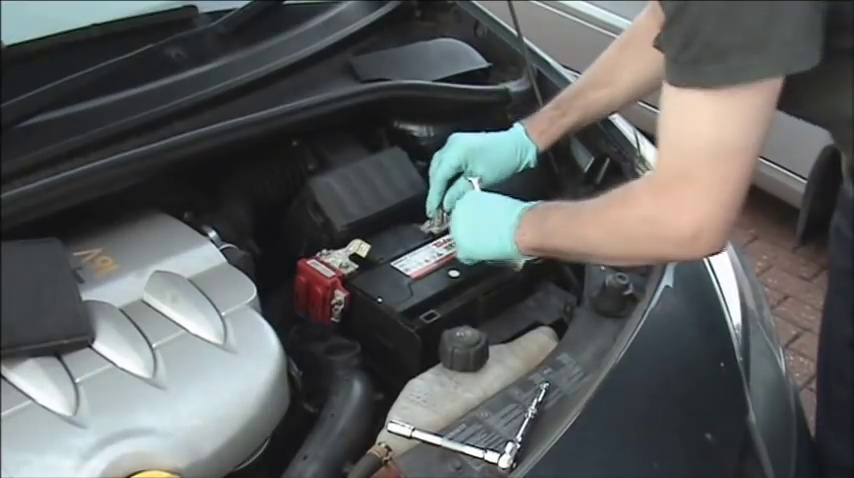battery: (290, 197, 563, 324)
neg_touched: (404, 158, 511, 243)
pos_connected: (301, 236, 392, 315)
